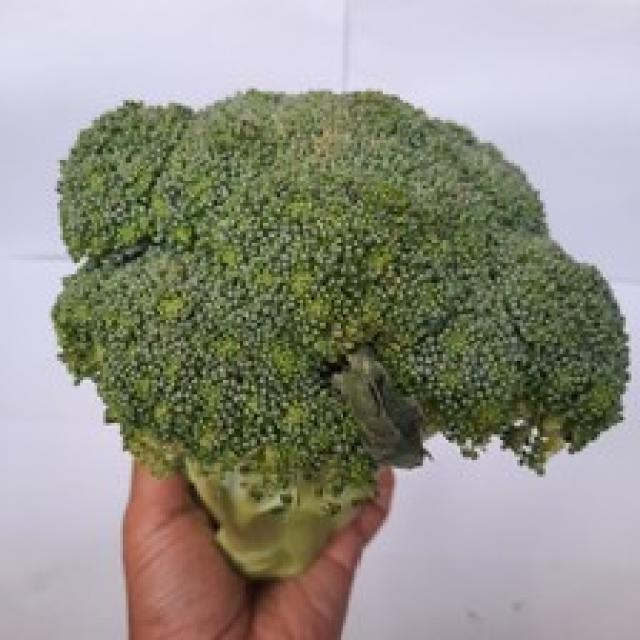Broccoli: (54, 91, 628, 578), (54, 91, 626, 578)
